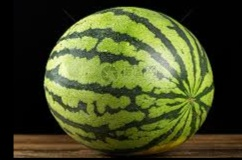watermelon: (44, 6, 212, 153)
